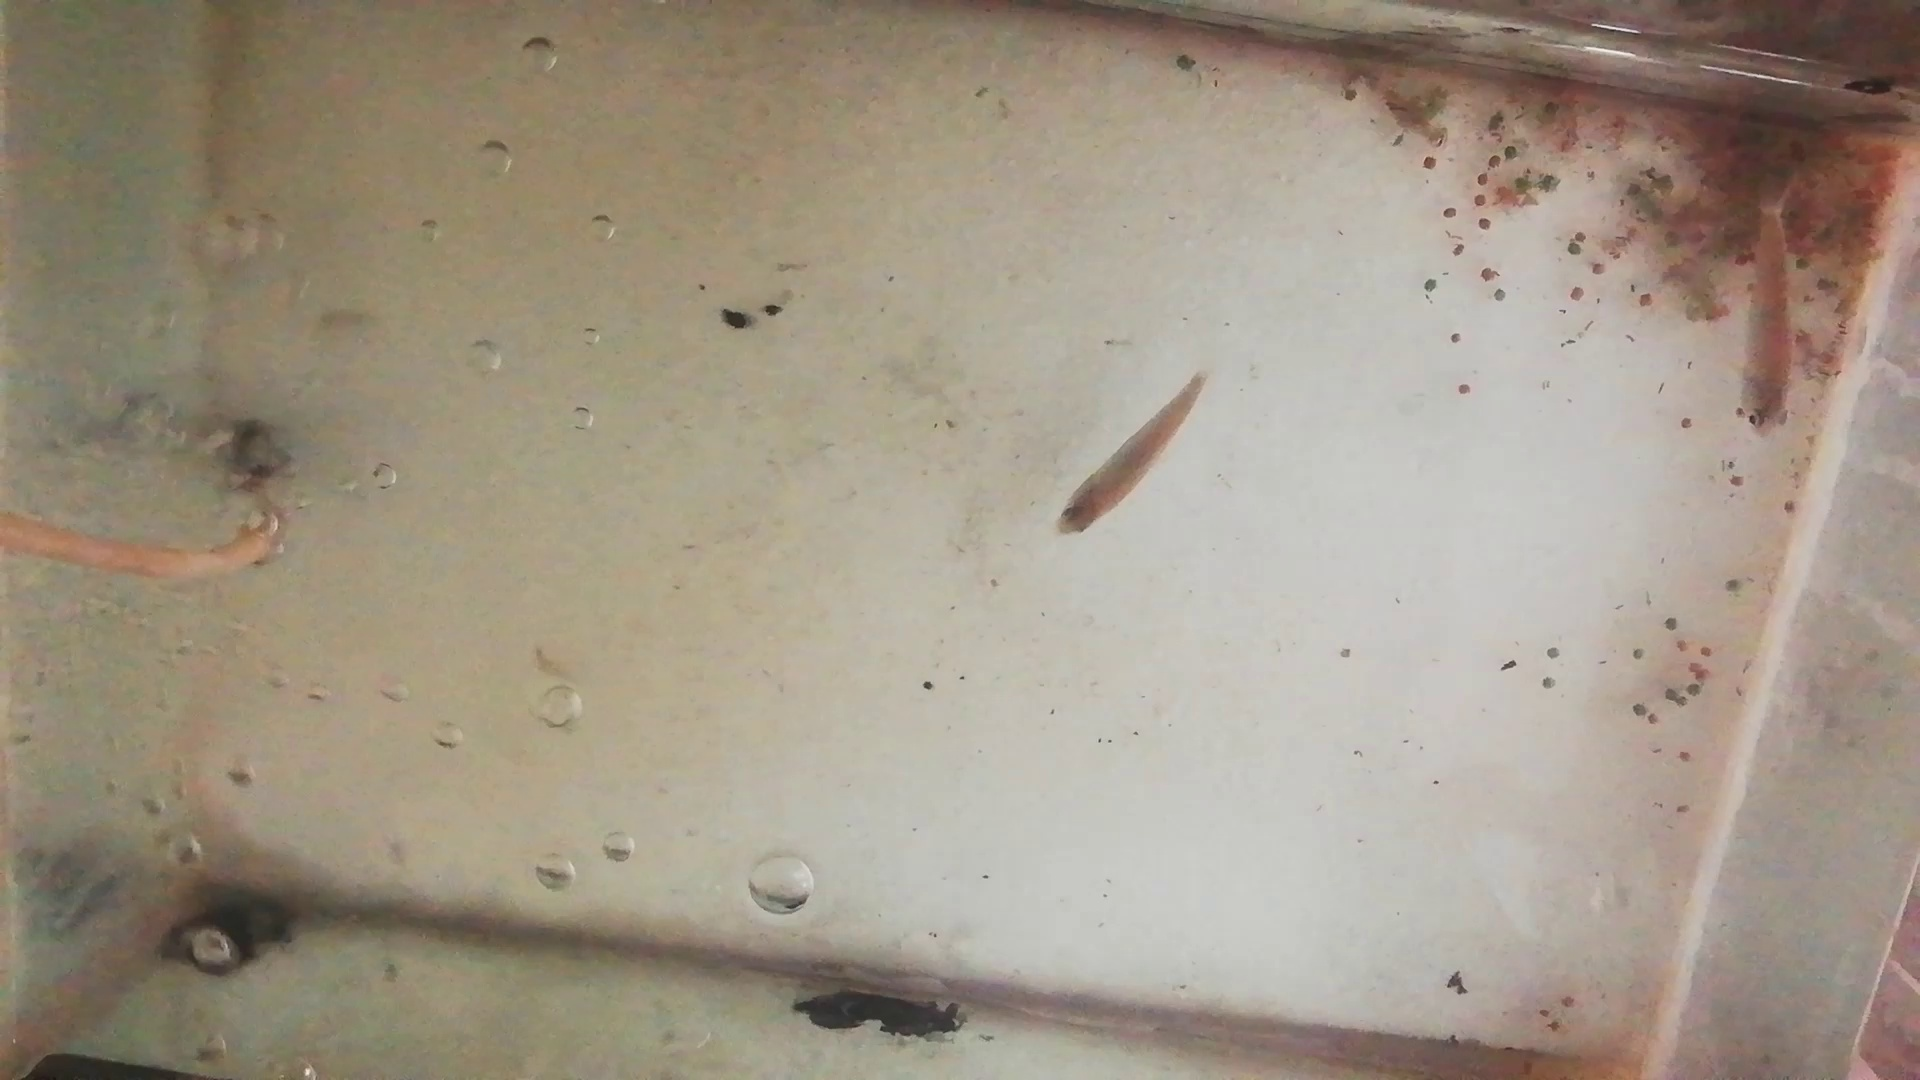fish: (1048, 369, 1208, 529), (1742, 206, 1803, 440)
